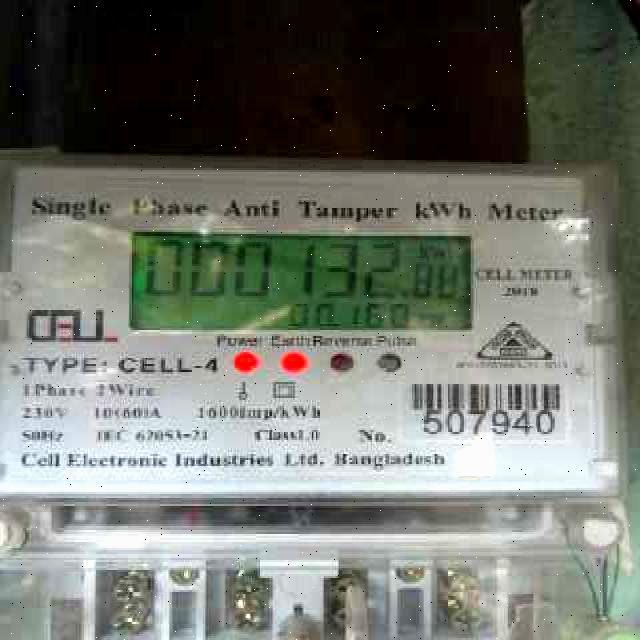LCD: (115, 223, 480, 337)
